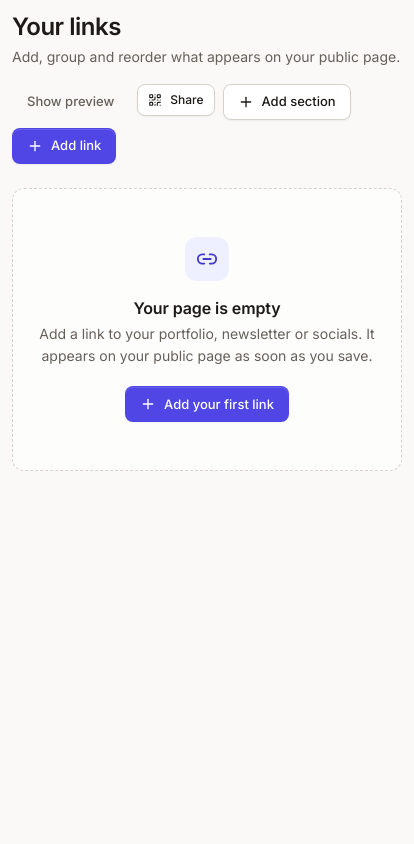
Test case: collapses and expands the mobile preview
Step 1. Click the button "Show preview" → (71, 102), box x1=12 y1=84 x2=129 y2=120
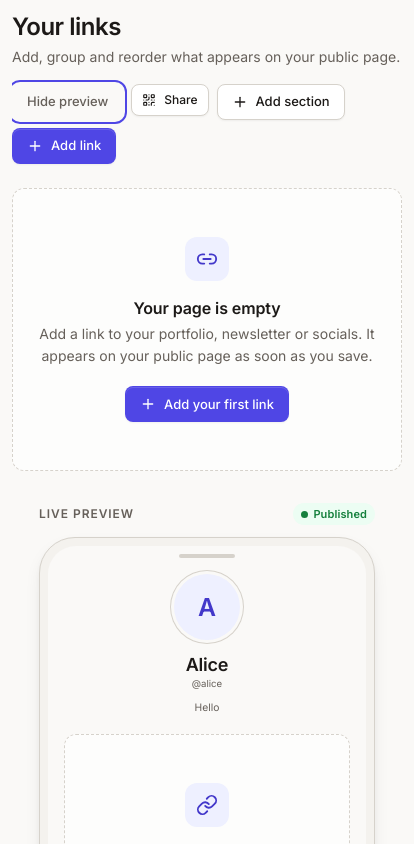
expect the button "Hide preview" is shown: met, box x1=12 y1=84 x2=123 y2=120
